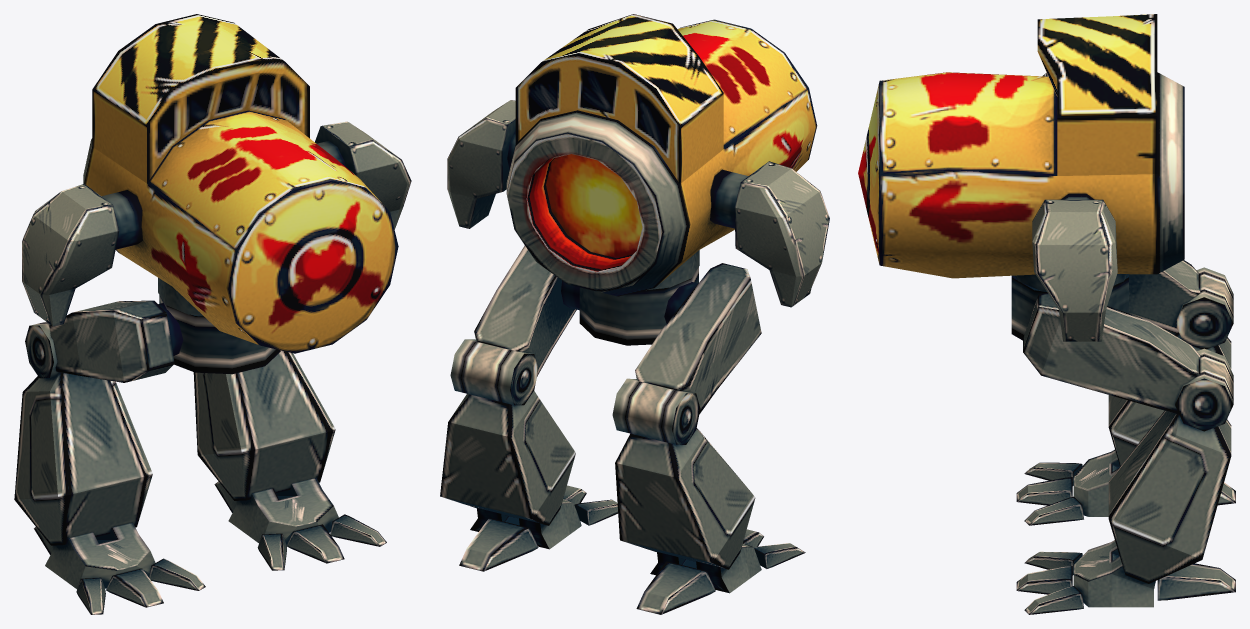
Rendered from mech02.fbx.
The picture shows the model from 3 angles, left to right: view 1: azimuth 30°, elevation 25°; view 2: azimuth 150°, elevation 25°; view 3: azimuth 270°, elevation 25°; orthographic projection. The views are drawn at different scales.
Visible parts, largest first — view 1: mech02; view 2: mech02; view 3: mech02.
Part boxes in pixels (x1,y1,x2,y2): mech02: [14, 14, 411, 614]; mech02: [440, 14, 829, 614]; mech02: [858, 14, 1235, 614].
Bounding box in the file's own units: 734 × 992 × 656.
Materials: 1 (1 with a texture image).
